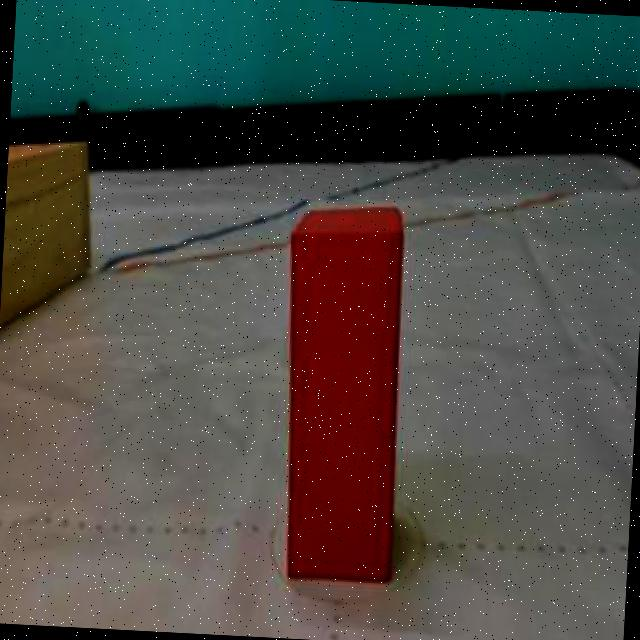redbox: (274, 198, 408, 584)
